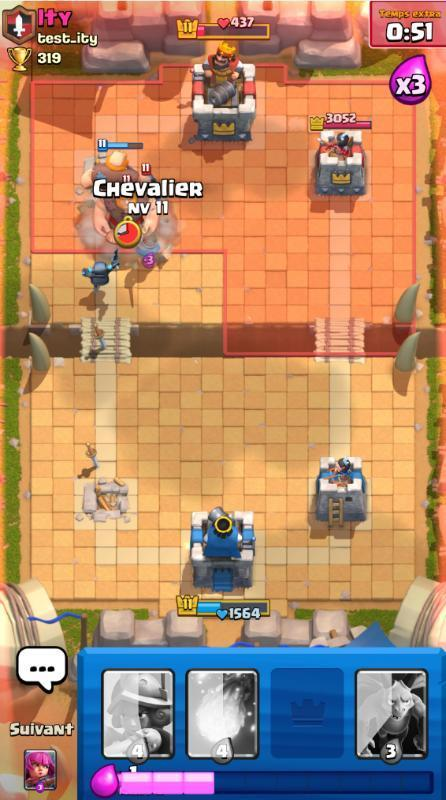player_giant: (81, 135, 144, 182)
player_mini_pekka: (78, 248, 124, 295)
